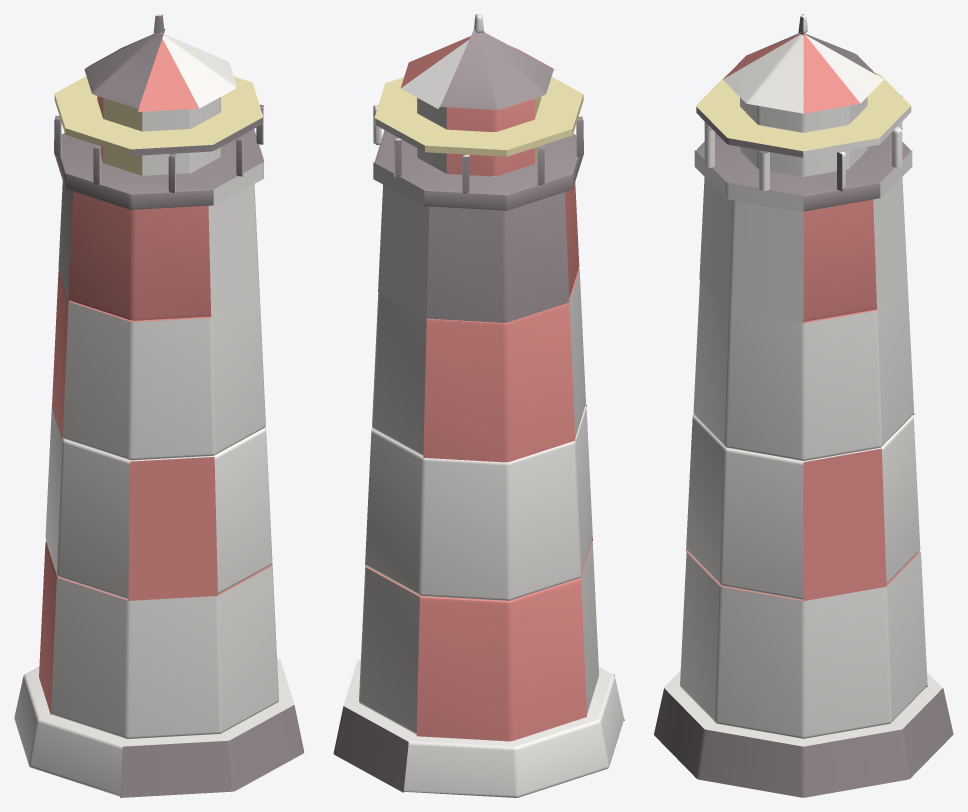
The model's file is Lighthouse.fbx.
3 renders of one model, left to right at view 1: azimuth 30°, elevation 25°; view 2: azimuth 150°, elevation 25°; view 3: azimuth 270°, elevation 25°, orthographic.
Visible parts, largest first — view 1: Lighthouse; view 2: Lighthouse; view 3: Lighthouse.
Boxes of the visible parts, x1,y1,x2,y2 form: Lighthouse: [14, 14, 304, 797]; Lighthouse: [333, 14, 624, 797]; Lighthouse: [653, 14, 953, 797].
Size of the model in its own units: 2.89 by 7.66 by 2.9.
